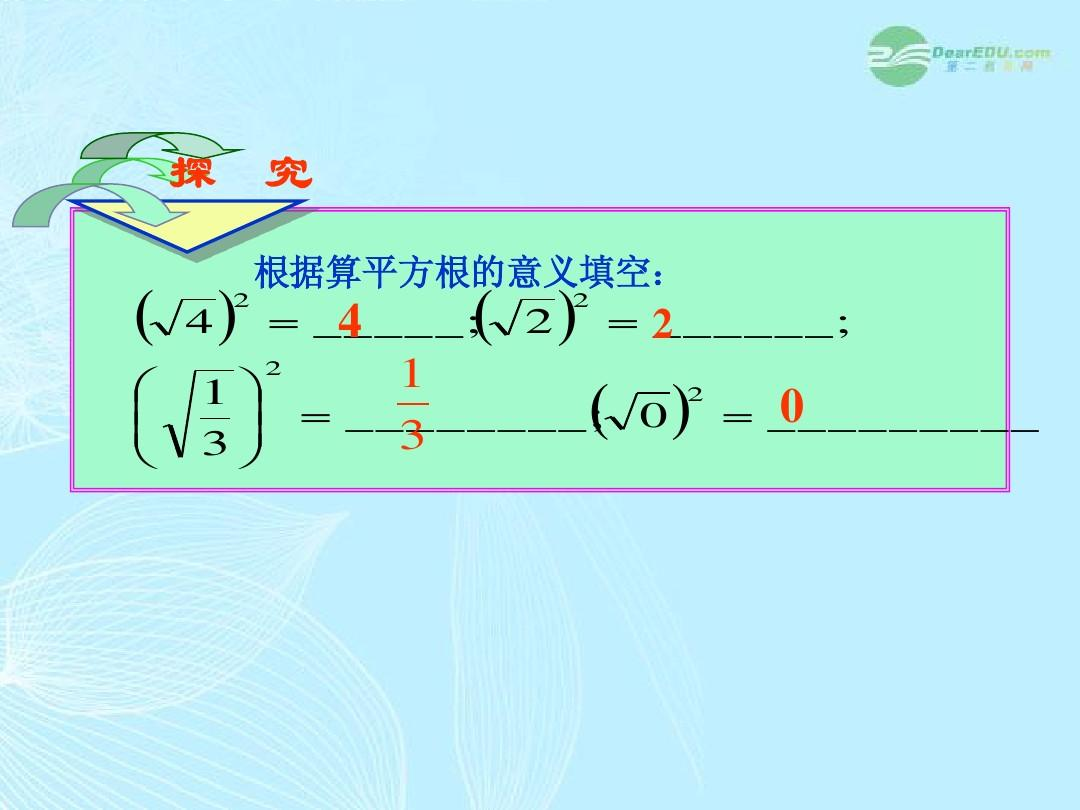division: (392, 397, 430, 410), (199, 411, 231, 425)
sqrt: (167, 365, 235, 458), (153, 293, 215, 343), (607, 390, 671, 435), (498, 295, 552, 341)
square: (231, 287, 257, 311), (682, 381, 704, 404), (572, 287, 593, 309), (262, 358, 282, 379)
